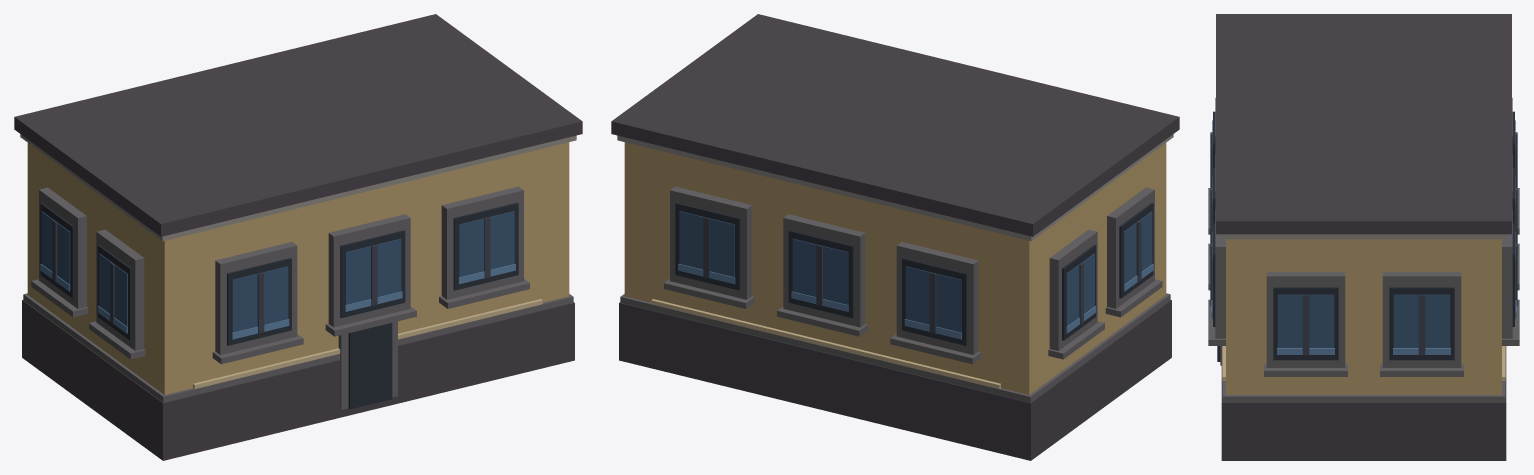
Rendered from Workshop.obj.
3 renders of one model, left to right at view 1: azimuth 30°, elevation 25°; view 2: azimuth 150°, elevation 25°; view 3: azimuth 270°, elevation 25°, orthographic.
Parts seen in each view (by area): view 1: Workshop; view 2: Workshop; view 3: Workshop.
Boxes of the visible parts, <box> form: Workshop: <box>14,14,582,460</box>; Workshop: <box>611,14,1179,460</box>; Workshop: <box>1208,14,1519,460</box>.
Bounding box in the file's own units: 1.69 × 0.89 × 1.04.
